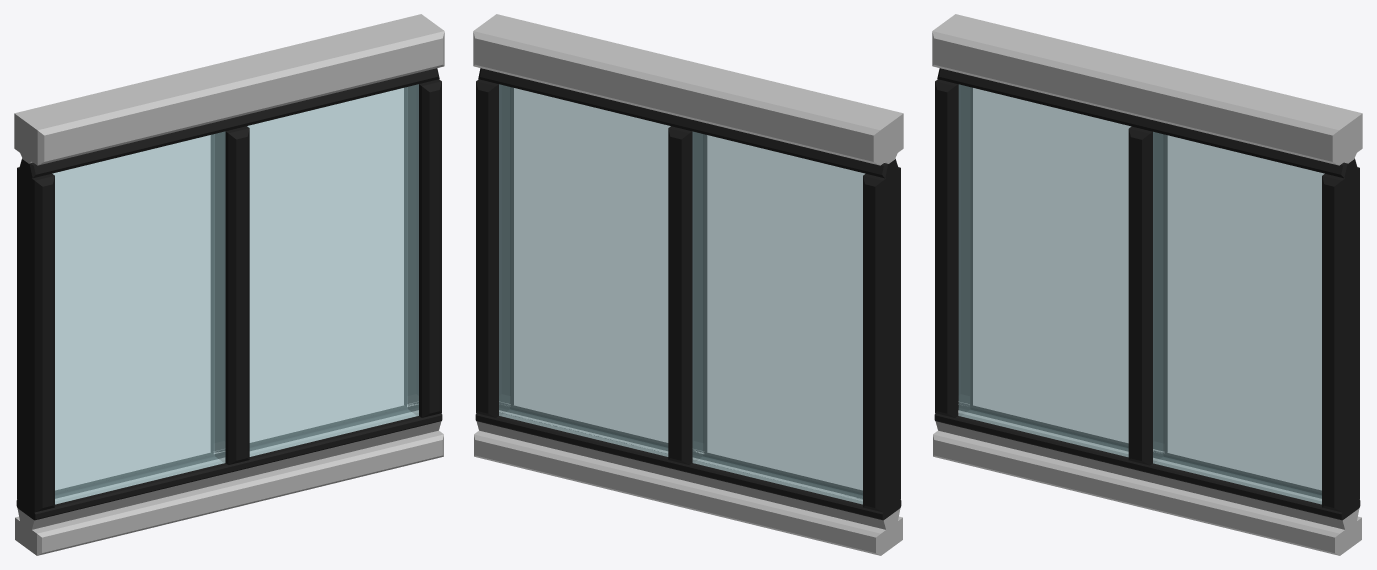
File: Window.fbx
The picture shows the model from 3 angles, left to right: view 1: azimuth 30°, elevation 25°; view 2: azimuth 150°, elevation 25°; view 3: azimuth 330°, elevation 25°; orthographic projection.
Parts seen in each view (by area): view 1: WindowFrame, pCube2, Window; view 2: WindowFrame, pCube2, Window; view 3: WindowFrame, pCube2, Window.
Boxes of the visible parts, bbox=[...] form: WindowFrame: bbox=[14, 14, 444, 555]; pCube2: bbox=[52, 131, 225, 504]; Window: bbox=[247, 84, 418, 456]; WindowFrame: bbox=[473, 14, 903, 555]; pCube2: bbox=[692, 131, 864, 504]; Window: bbox=[499, 84, 670, 456]; WindowFrame: bbox=[932, 14, 1362, 555]; pCube2: bbox=[958, 84, 1130, 456]; Window: bbox=[1153, 132, 1324, 504].
Bounding box in the file's own units: 200 × 200 × 24.
